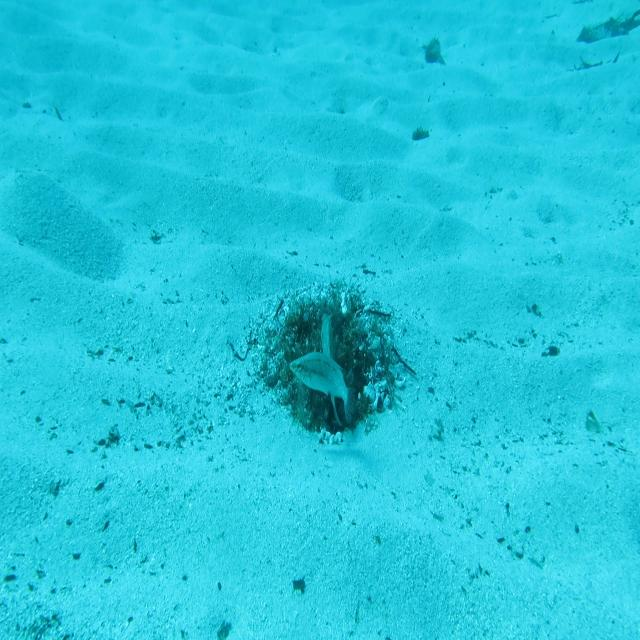FAN: (320, 312, 343, 427)
core_nest: (305, 303, 353, 341)
female: (288, 350, 356, 425)
nest: (253, 270, 407, 449)
vegetation: (574, 5, 640, 45), (420, 35, 446, 69), (412, 122, 430, 140)
